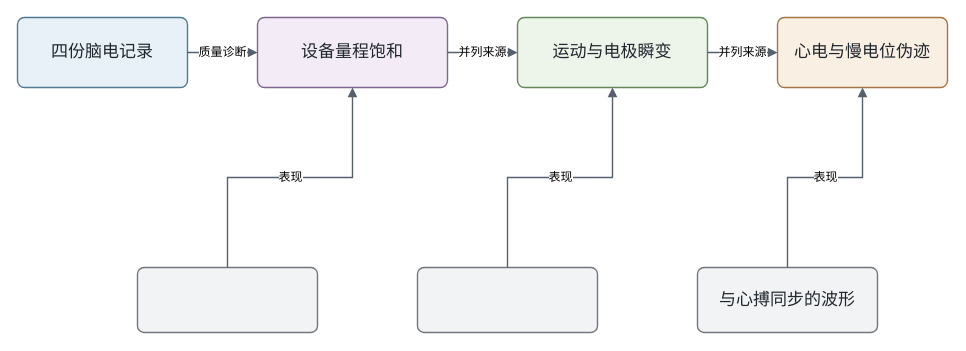
The diagram is 966 pixels wide and 351 high, and some of its shapes have lost their labels. Here are the shapes that lost their labels. From the top down, the box of each, then its label:
(136, 266, 318, 333): 幅值削顶与平台
(416, 266, 598, 333): 尖峰瞬变与漂移
